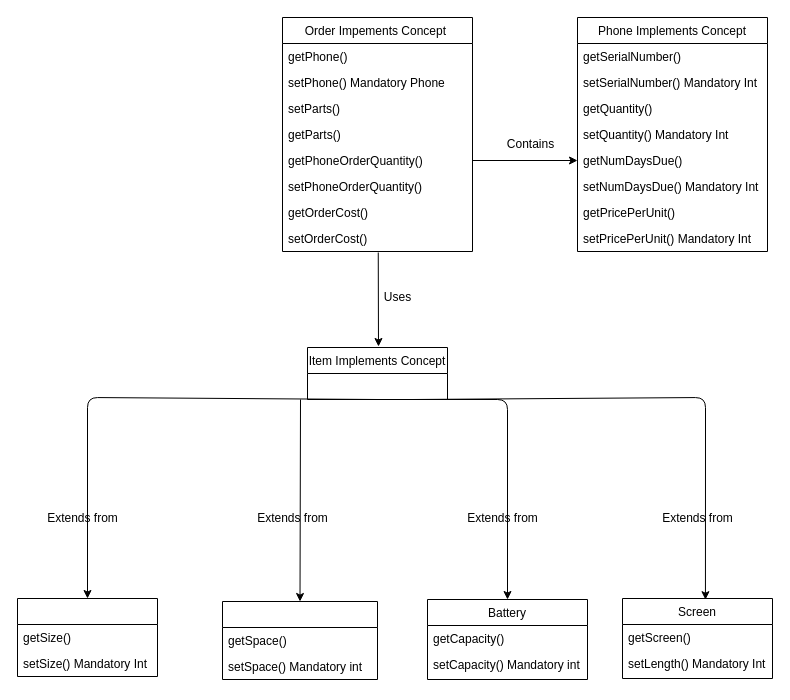
Image size: 790x700. Some labels were removed from this diagram. Each missing label, with the box of its shape:
Ram: (16, 598, 158, 676)
Storage: (222, 600, 378, 680)
